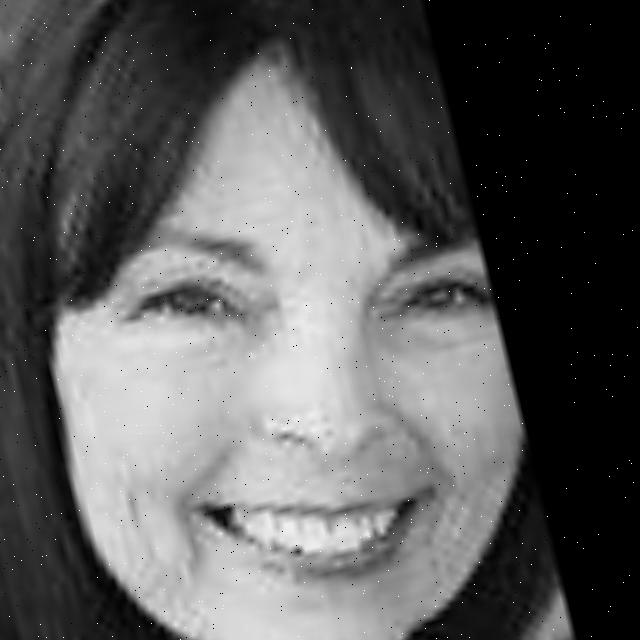Happiness: (3, 0, 530, 640)
